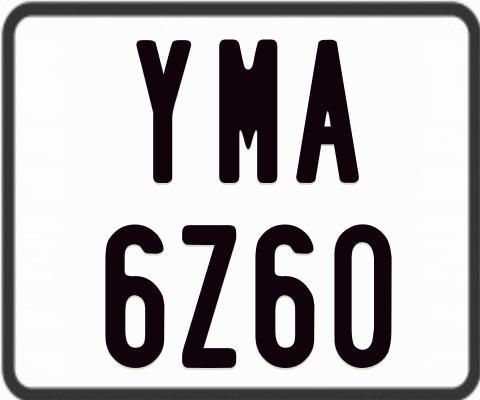0: (334, 224, 394, 372)
6: (255, 222, 316, 370), (104, 222, 165, 368)
A: (295, 39, 361, 184)
M: (217, 38, 280, 183)
Y: (134, 40, 188, 189)
Z: (179, 223, 237, 366)
